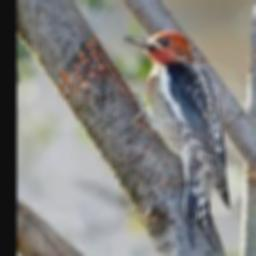Woodpecker: (123, 30, 230, 250)
